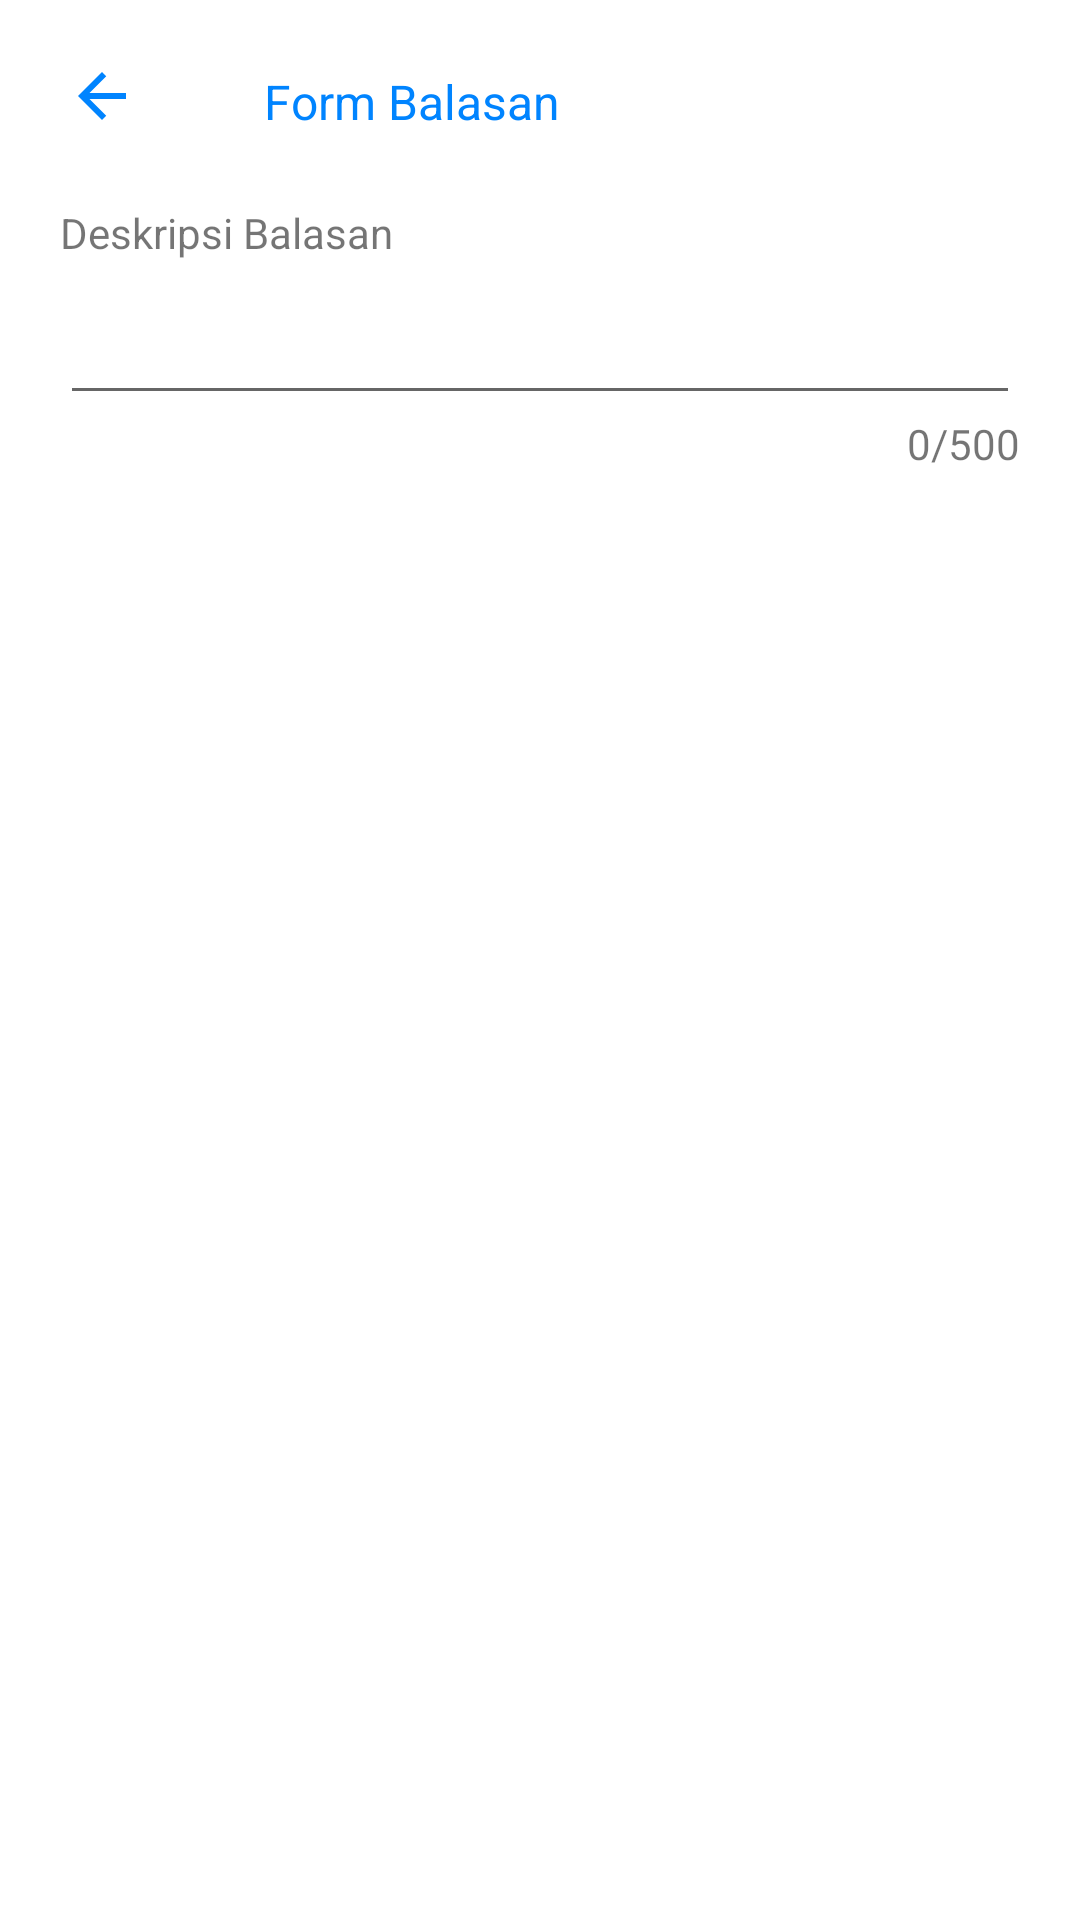

Locate icon controls on the screen. Image size 1080×1920, boxes as (x1,y1,x2,y2).
back: (78,72,126,120)
